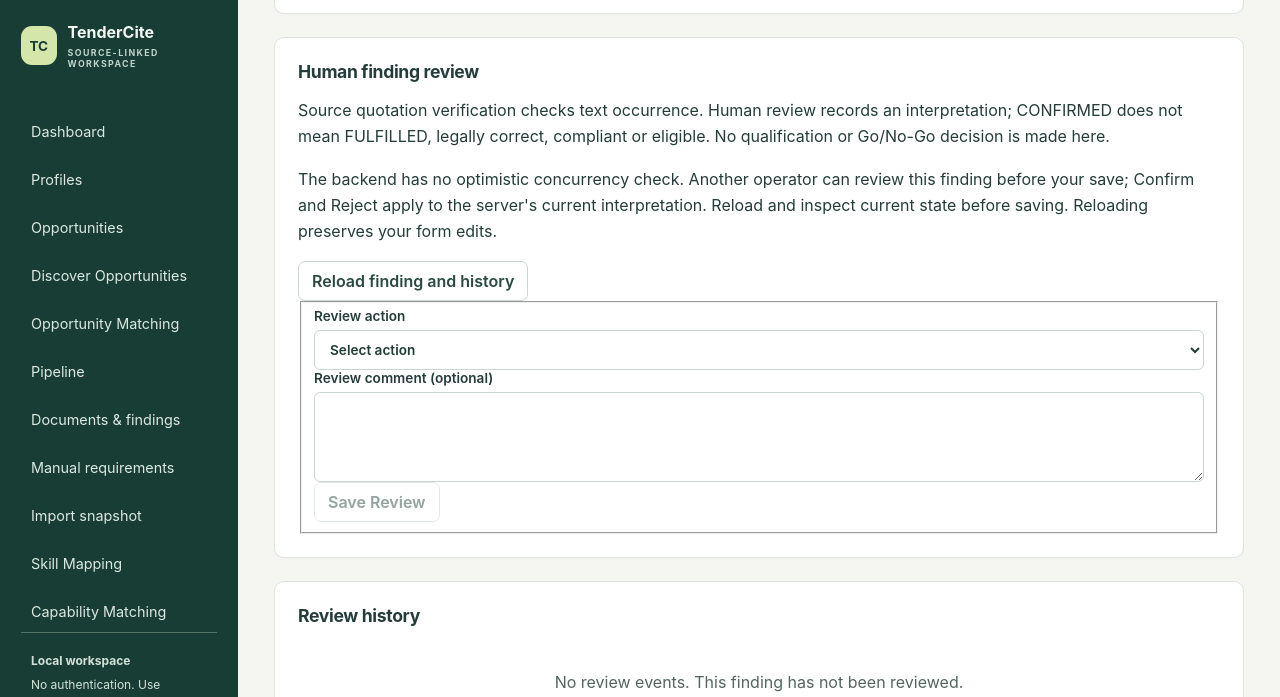
Test: explicit CONFIRM posts once and reloads authoritative state and history
(page scrolled)
Expected: the text "No review events. This finding has not been reviewed." is shown, [555,672,963,692]
Select "CONFIRM" in the dropdown labelled "Review action" at [759, 350], box [314,330,1204,370]
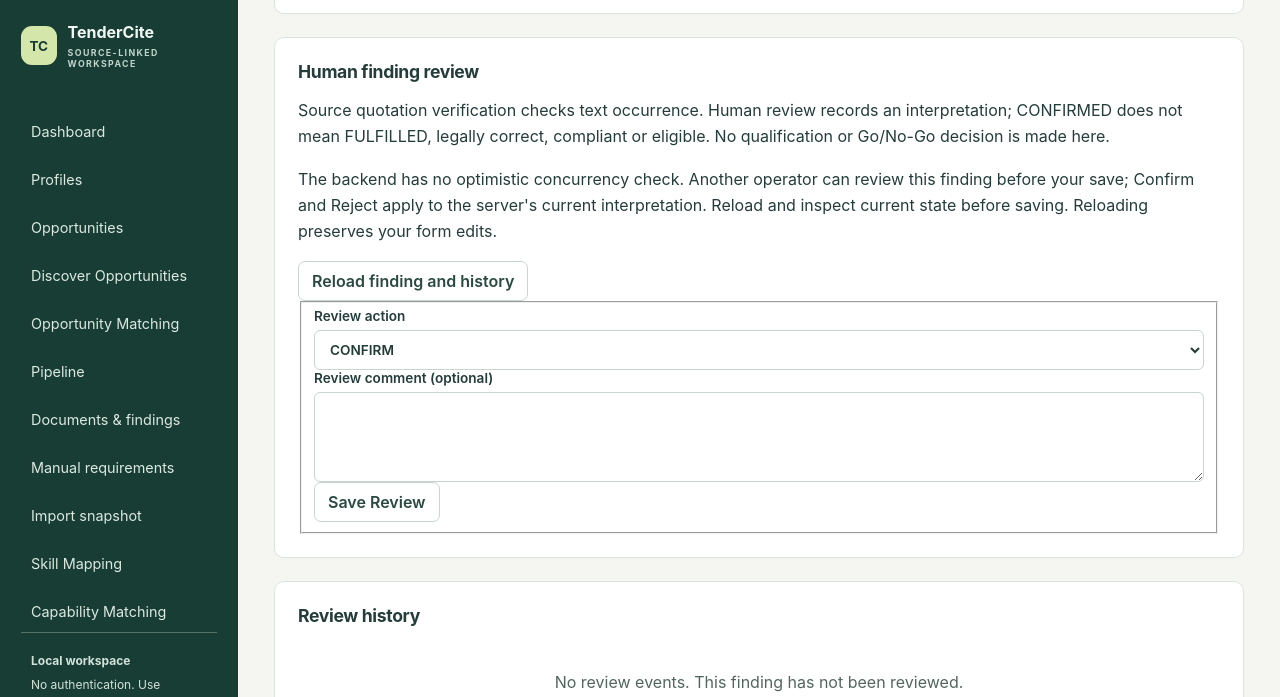
Type "Synthetic operator comment" into the text box labelled "Review comment (optional)" at [759, 437], box [314,392,1204,482]
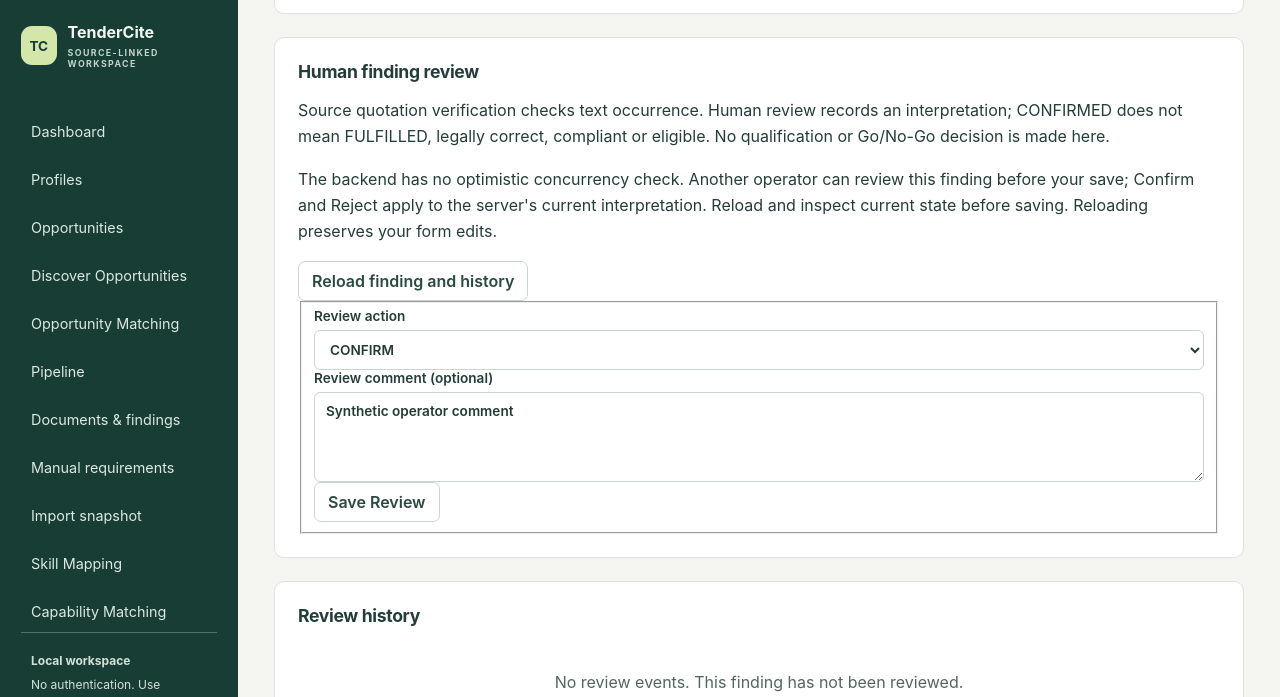
Click the button "Save Review" at [377, 502], box [314,482,440,522]
(page scrolled)
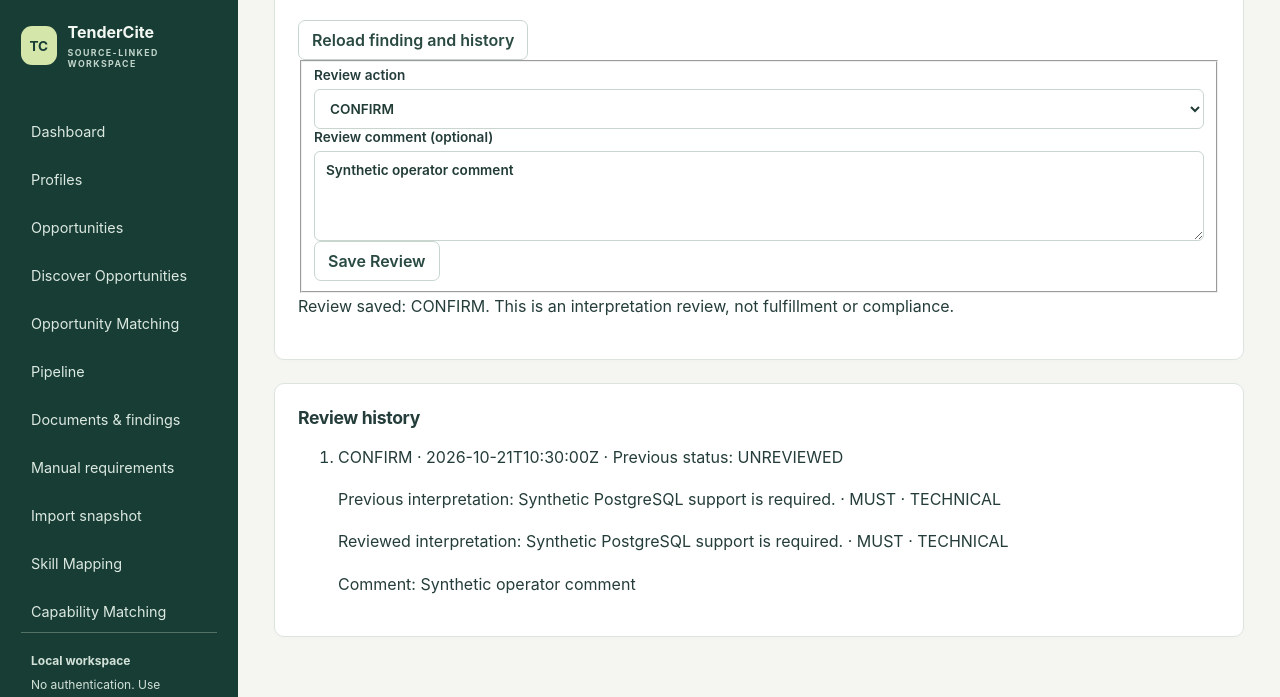
Result: the text "Review saved:" is shown at [298,296,954,316]
Result: the text "Comment: Synthetic operator comment" is shown at [338,574,636,594]
